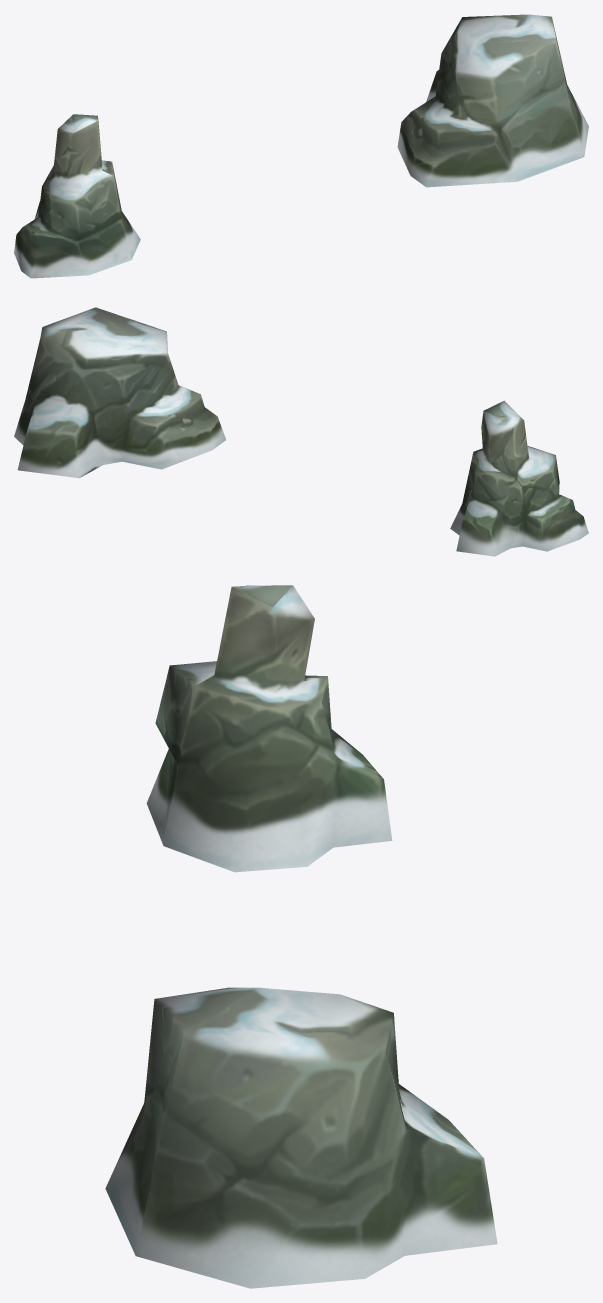
Rendered from sn_zdcj_obj01.FBX.
3 views of the same model, one above another, from view 1: azimuth 30°, elevation 25°; view 2: azimuth 150°, elevation 25°; view 3: azimuth 270°, elevation 25° (orthographic). The views are drawn at different scales.
Visible parts, largest first — view 1: snft_st02a, snft_st01a; view 2: snft_st02a, snft_st01a; view 3: snft_st02a, snft_st01a.
Part boxes in pixels (x1,y1,x2,y2): snft_st02a: [397, 14, 588, 187]; snft_st01a: [14, 114, 140, 278]; snft_st02a: [14, 307, 225, 478]; snft_st01a: [450, 400, 588, 556]; snft_st02a: [105, 987, 497, 1288]; snft_st01a: [146, 585, 392, 872].
Bounding box in the file's own units: 14.49 × 3.18 × 4.54.
